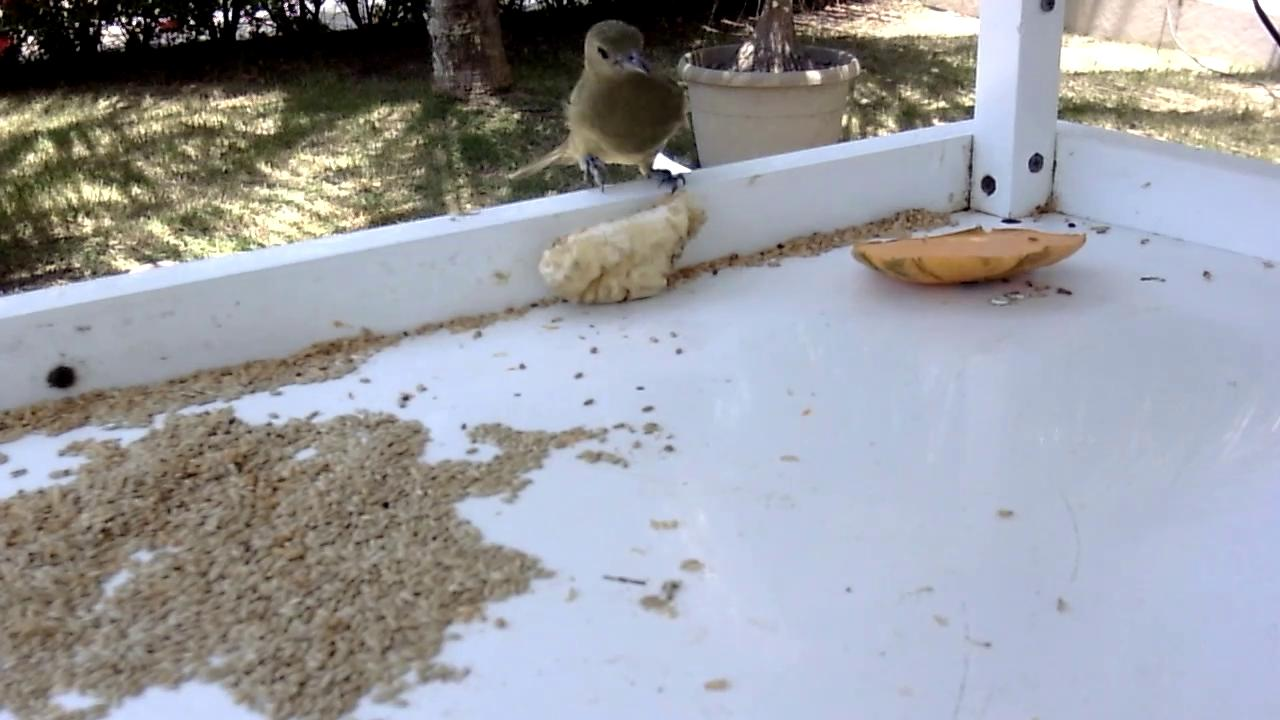sanhaco_do_coqueiro: (518, 20, 690, 198)
